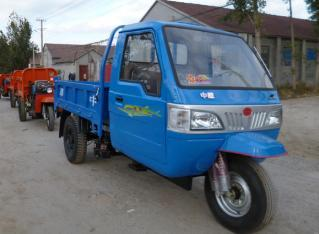tricycle: (51, 26, 282, 227)
